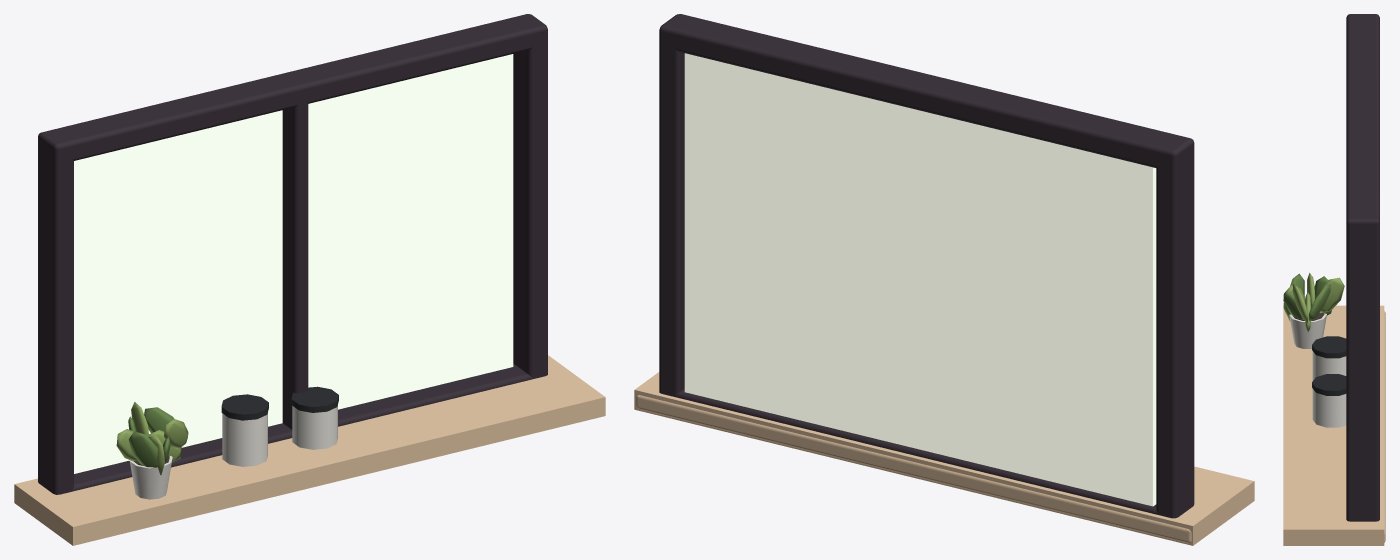
The model's file is kitchen_ref_window.glb.
The picture shows the model from 3 angles, left to right: view 1: azimuth 30°, elevation 25°; view 2: azimuth 150°, elevation 25°; view 3: azimuth 270°, elevation 25°; orthographic projection. The views are drawn at different scales.
Size of the model in its own units: 2.36 by 1.56 by 0.4551.
